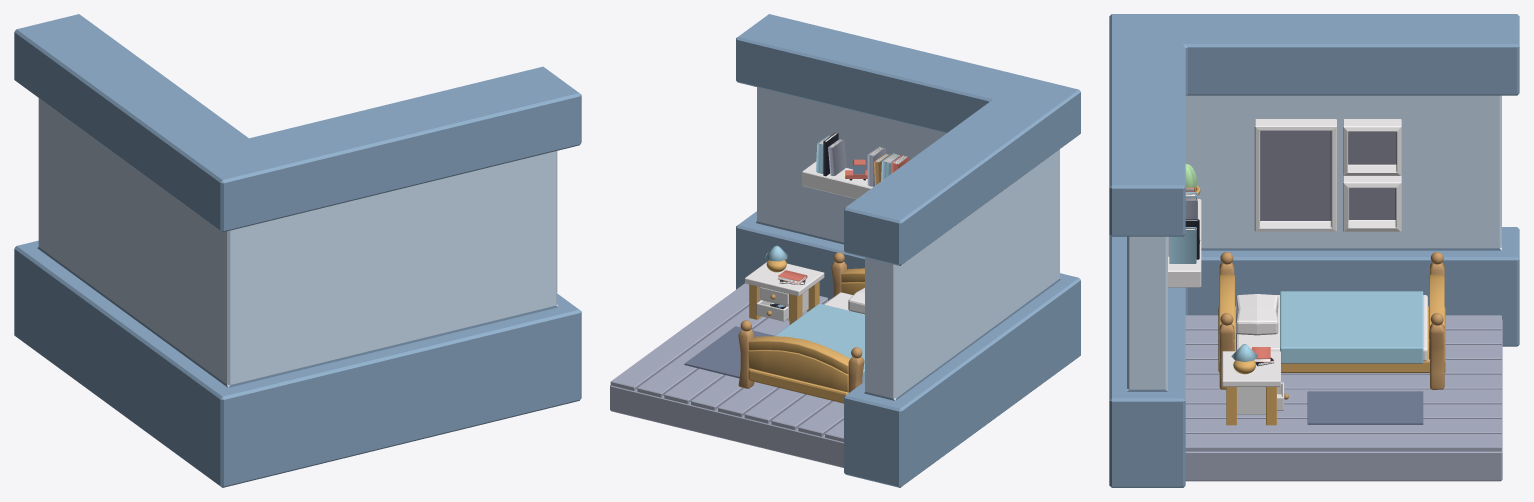
Rendered from bedroom.glb.
3 views of the same model, side by side, from view 1: azimuth 30°, elevation 25°; view 2: azimuth 150°, elevation 25°; view 3: azimuth 270°, elevation 25° (orthographic). The views are drawn at different scales.
Visible parts, largest first — view 1: Plane.002; view 2: Plane.002; view 3: Plane.002.
Part boxes in pixels (left/top/right/bottom): Plane.002: left=14, top=14, right=581, bottom=487; Plane.002: left=610, top=14, right=1080, bottom=487; Plane.002: left=1109, top=14, right=1519, bottom=487.
Bounding box in the file's own units: 2.46 × 2.01 × 2.46.
